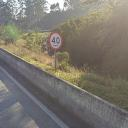speed_limit_40: (49, 32, 63, 50)
